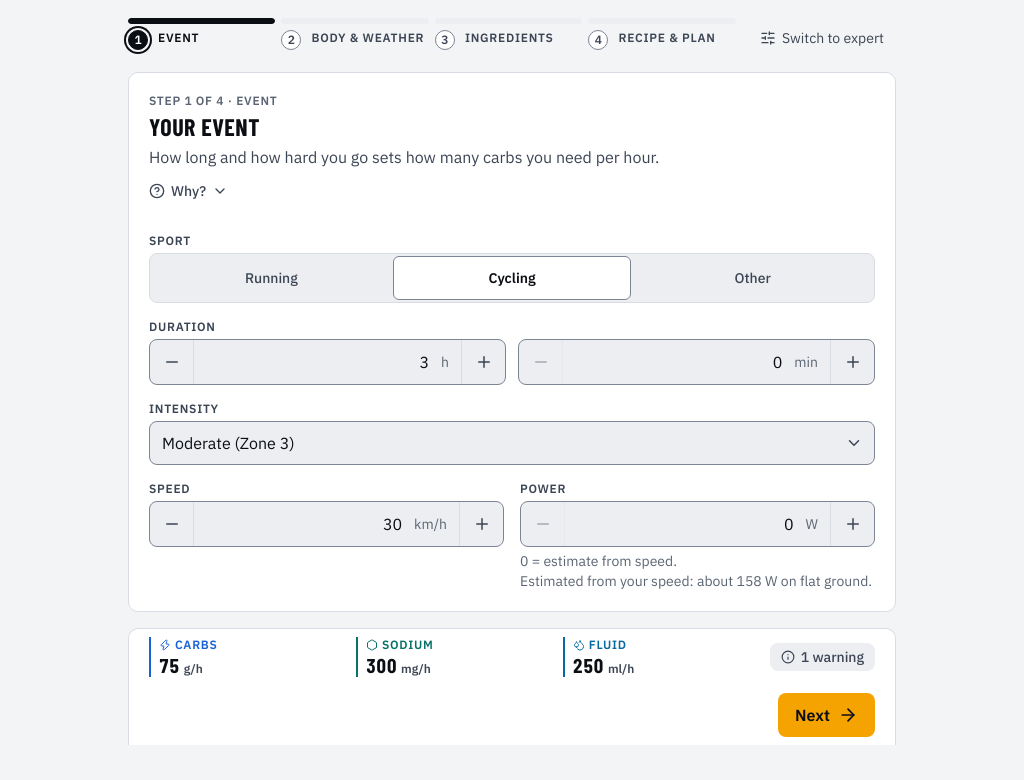
Test: GuidedFlow: layout › has one level-2 heading per screen, under the page heading
Expected: the headings read "Your event", in this order, [149,112,260,141]
Click the button with test id "guided-next" at (827,715), box [778,693,875,737]
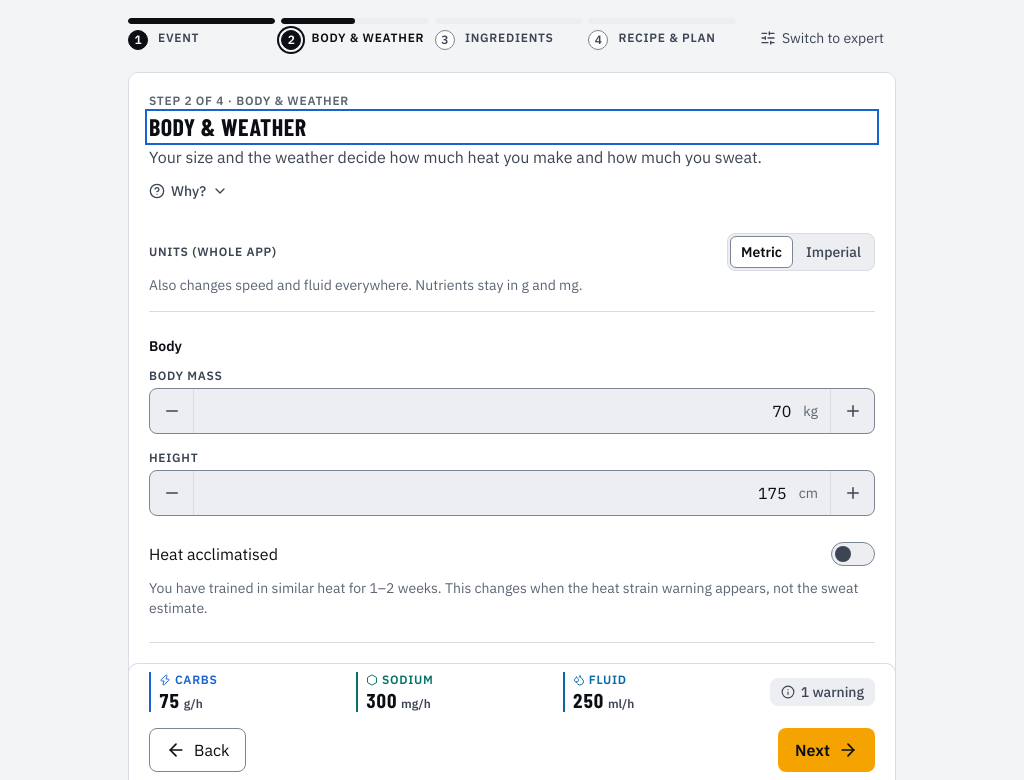
Expected: the headings read "Body & weather", in this order, [149,112,306,141]
Click the button with test id "guided-next" at (827,750), box [778,728,875,772]
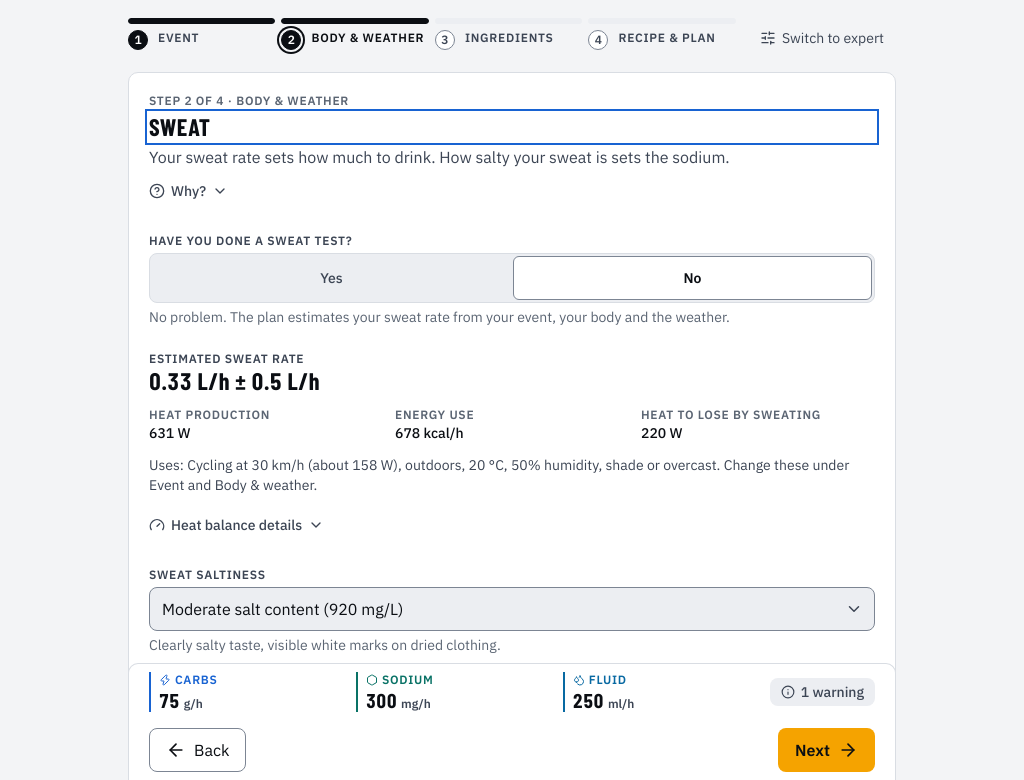
Expected: the headings read "Sweat", in this order, [149,112,210,141]
Click the button with test id "guided-next" at (827,750), box [778,728,875,772]
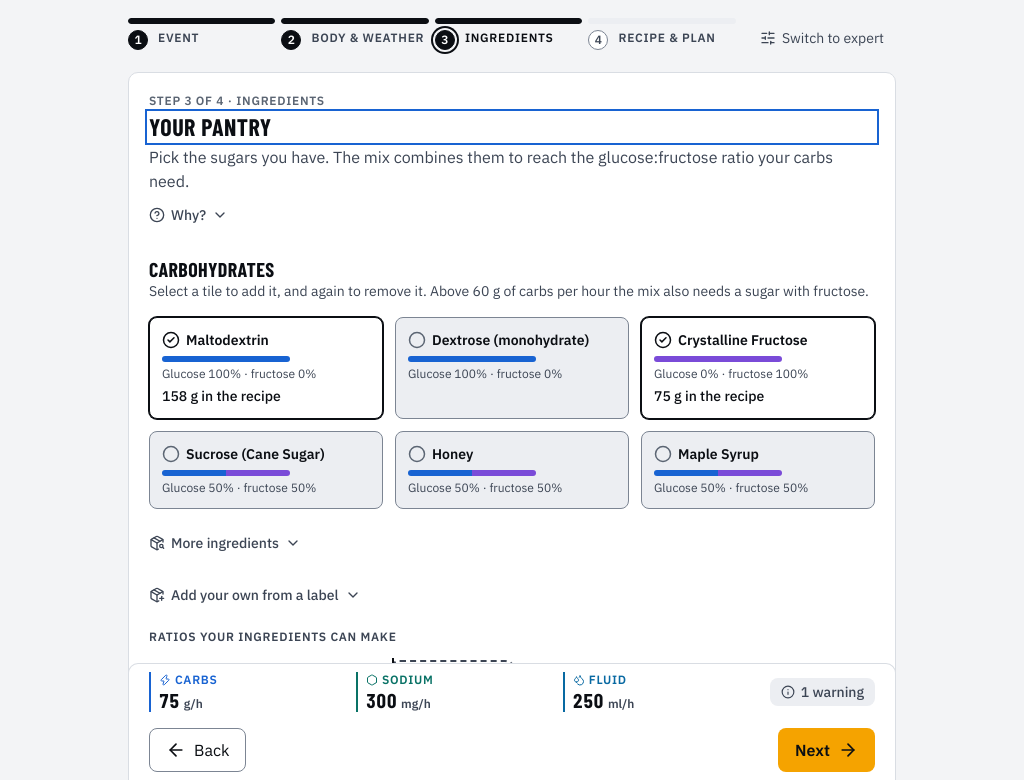
Expected: the headings read "Your pantry", in this order, [149,112,272,141]
Click the button with test id "guided-next" at (827,750), box [778,728,875,772]
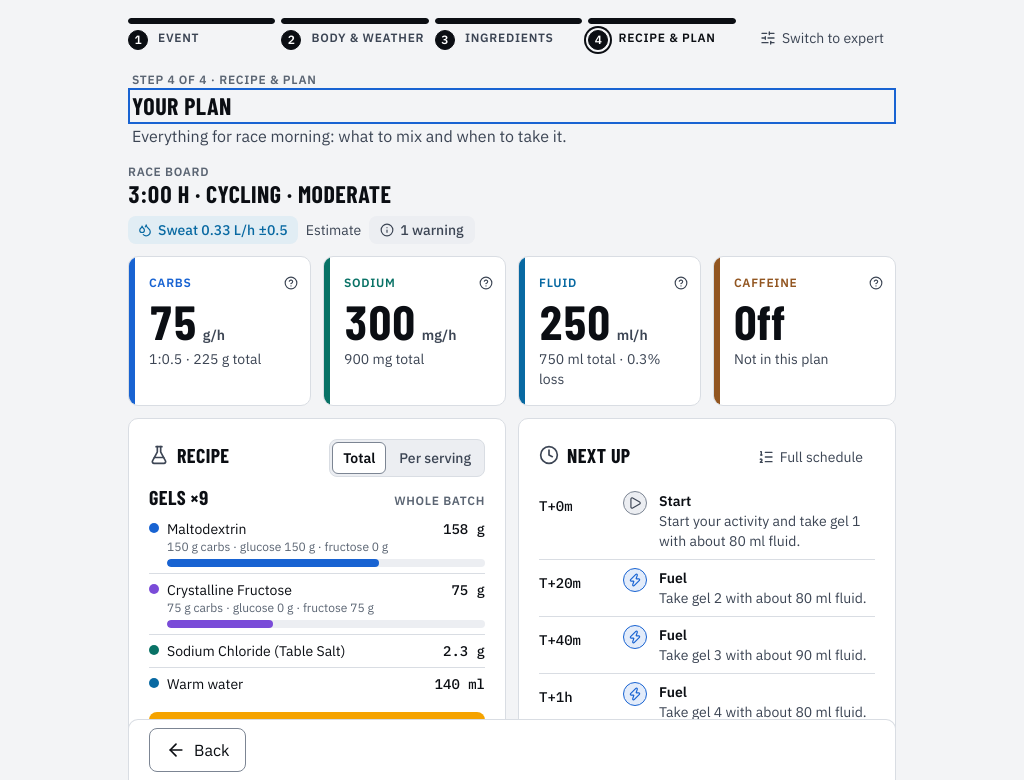
Expected: the heading "Race board" is shown, [128,164,209,179]
